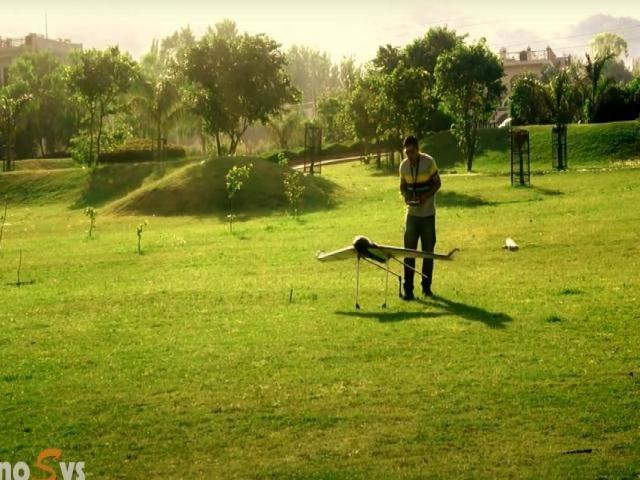iha: (317, 233, 459, 262)
